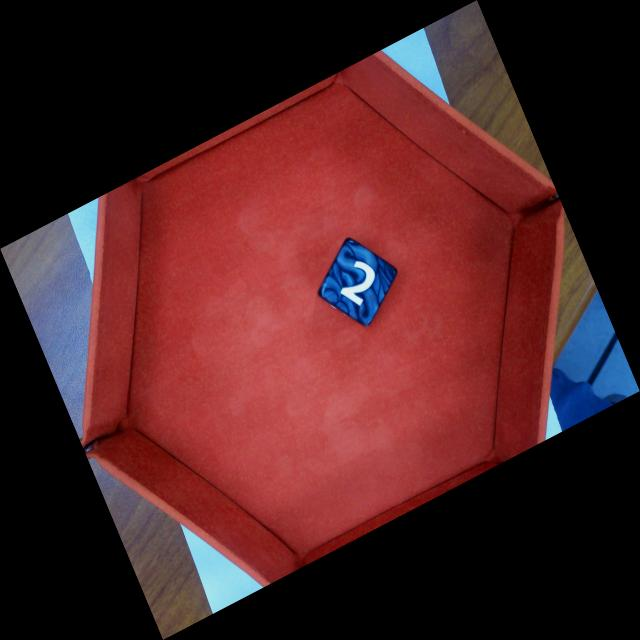dice: (314, 233, 403, 330)
